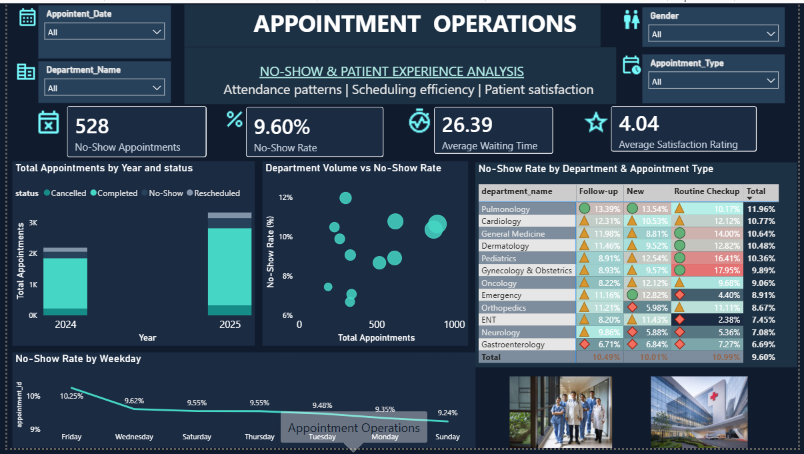

Layout of this report page (visuals, bound fields, positions):
{"tool":"powerbi","page":{"name":"Appointment Operations","canvas":[1280,720],"ordinal":1},"visuals":[{"type":"textbox","box":[286.9,70.9,699.1,92.3],"z":0},{"type":"textbox","box":[286.1,1.7,673.9,68.9],"z":1000},{"type":"cardVisual","fields":{"Data":["appointments_clean.No-Show Appointments"]},"box":[79.1,148.4,260.5,117.1],"z":2000},{"type":"cardVisual","fields":{"Data":["appointments_clean.No-Show Rate"]},"box":[369.3,150,257.2,115.4],"z":3000},{"type":"cardVisual","fields":{"Data":["appointments_clean.Average Waiting Time"]},"box":[674.4,150,227.5,110.5],"z":4000},{"type":"lineChart","title":"No-Show Rate by Weekday","fields":{"Category":["appointments_clean.Appointment Weekday"],"Y":["appointments_clean.No-Show Rate"]},"box":[8.2,565.5,750.2,155],"z":5000},{"type":"cardVisual","fields":{"Data":["appointments_clean.Average Satisfaction Rating"]},"box":[959.6,148.4,270.4,108.8],"z":6000},{"type":"slicer","fields":{"Values":["departments_clean.department_name"]},"box":[49.5,94,214.3,67.6],"z":7000},{"type":"image","box":[13.2,90.7,34.6,39.6],"z":8000},{"type":"slicer","fields":{"Values":["appointments_clean.appointment_date"]},"box":[49.5,3.3,214.3,85.7],"z":9000},{"type":"slicer","fields":{"Values":["appointments_clean.appointment_type"]},"box":[1028.8,82.4,230.8,79.1],"z":10000},{"type":"slicer","fields":{"Values":["doctors_clean.gender"]},"box":[1028.8,6.6,230.8,64.3],"z":11000},{"type":"image","box":[992.6,6.6,36.3,39.6],"z":12000},{"type":"image","box":[992.6,77.5,34.6,42.9],"z":13000},{"type":"image","box":[8.2,4.9,49.5,34.6],"z":14000},{"type":"scatterChart","title":"Department Volume vs No-Show Rate","fields":{"X":["appointments_clean.Total Appointments"],"Y":["appointments_clean.No-Show Rate"],"Size":["appointments_clean.No-Show Appointments"],"Category":["departments_clean.department_name"]},"box":[412.2,255.6,333.1,298.4],"z":15000},{"type":"pivotTable","title":"No-Show Rate by Department & Appointment Type","fields":{"Rows":["departments_clean.department_name"],"Columns":["appointments_clean.appointment_type"],"Values":["appointments_clean.No-Show Rate"]},"box":[757.8,257.5,521.4,331.9],"z":16000},{"type":"image","box":[339.7,168.2,56.1,37.9],"z":17000},{"type":"image","box":[931.6,169.8,44.5,44.5],"z":18000},{"type":"image","box":[644.7,168.2,46.2,44.5],"z":19000},{"type":"image","box":[42.9,169.8,49.5,44.5],"z":20000},{"type":"columnChart","fields":{"Category":["appointments_clean.appointment_date.Variation.Date Hierarchy.Year","appointments_clean.appointment_date.Variation.Date Hierarchy.Month"],"Y":["appointments_clean.Total Appointments"],"Series":["appointments_clean.status"]},"box":[8.2,255.6,392.4,298.4],"z":21000},{"type":"image","box":[626.6,604,539.2,116.6],"z":21001},{"type":"image","box":[960.2,604,320.6,116.6],"z":21002}]}

Visuals, with their boxes in screenshot pixels (x1, y1, x2, y2), scaled from the page's 1280x720 canvas onto the 804x454 screenshot:
textbox: <region>180, 45, 619, 103</region>
textbox: <region>180, 1, 603, 45</region>
cardVisual - appointments_clean.No-Show Appointments: <region>50, 94, 213, 167</region>
cardVisual - appointments_clean.No-Show Rate: <region>232, 95, 394, 167</region>
cardVisual - appointments_clean.Average Waiting Time: <region>424, 95, 567, 164</region>
"No-Show Rate by Weekday" lineChart: <region>5, 357, 476, 453</region>
cardVisual - appointments_clean.Average Satisfaction Rating: <region>603, 94, 773, 162</region>
slicer - departments_clean.department_name: <region>31, 59, 166, 102</region>
image: <region>8, 57, 30, 82</region>
slicer - appointments_clean.appointment_date: <region>31, 2, 166, 56</region>
slicer - appointments_clean.appointment_type: <region>646, 52, 791, 102</region>
slicer - doctors_clean.gender: <region>646, 4, 791, 45</region>
image: <region>623, 4, 646, 29</region>
image: <region>623, 49, 645, 76</region>
image: <region>5, 3, 36, 25</region>
"Department Volume vs No-Show Rate" scatterChart: <region>259, 161, 468, 349</region>
"No-Show Rate by Department & Appointment Type" pivotTable: <region>476, 162, 803, 372</region>
image: <region>213, 106, 249, 130</region>
image: <region>585, 107, 613, 135</region>
image: <region>405, 106, 434, 134</region>
image: <region>27, 107, 58, 135</region>
columnChart - appointments_clean.appointment_date.Variation.Date Hierarchy.Year x appointments_clean.appointment_date.Variation.Date Hierarchy.Month: <region>5, 161, 252, 349</region>
image: <region>394, 381, 732, 453</region>
image: <region>603, 381, 803, 453</region>
